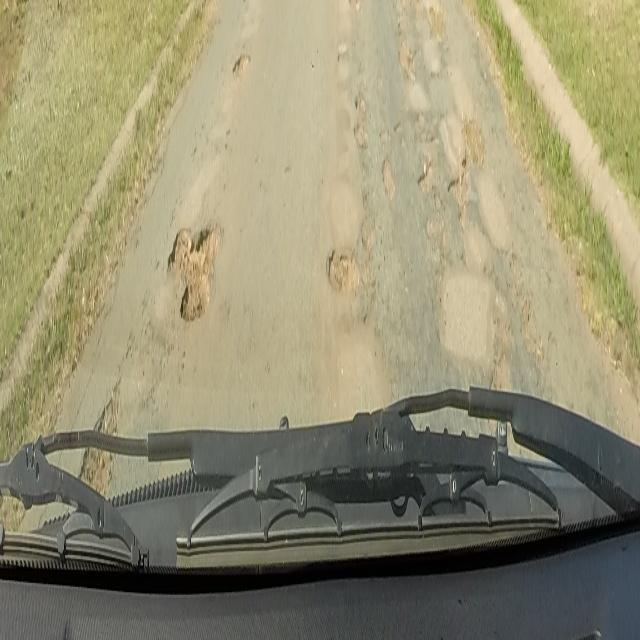pothole: (353, 41, 486, 222), (166, 211, 219, 323), (74, 374, 120, 494), (326, 239, 360, 295), (232, 48, 252, 80), (346, 0, 366, 16)
